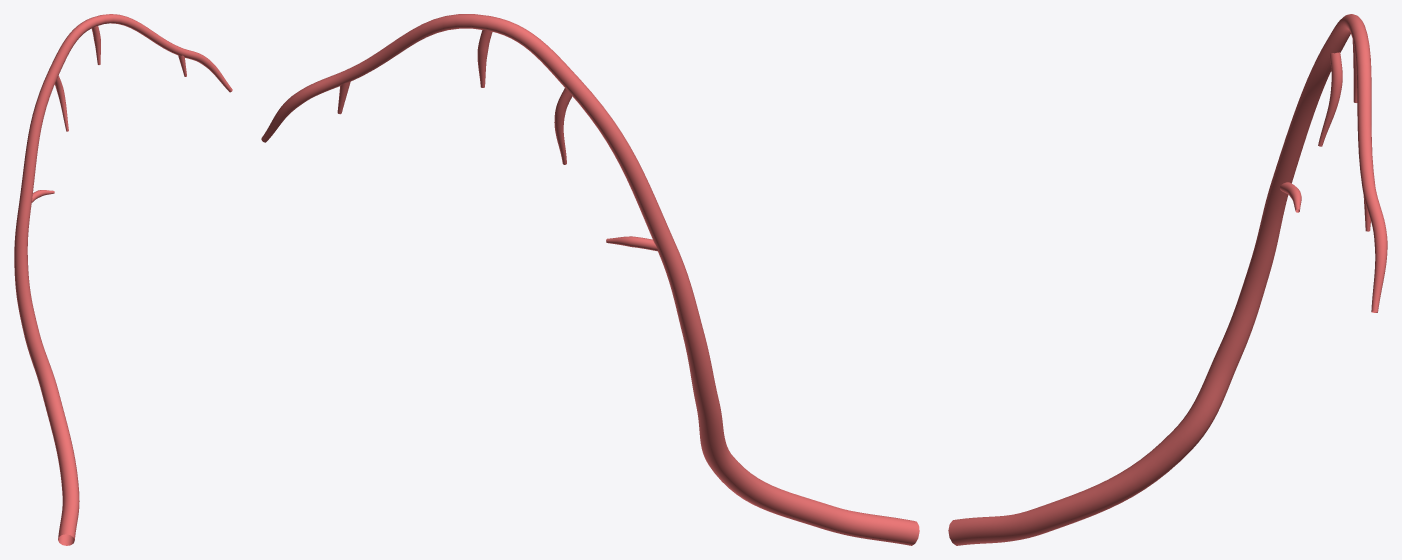
File: Inferior_suprarenal_arteries.l_BezierCurve.389.glb
3 renders of one model, left to right at view 1: azimuth 30°, elevation 25°; view 2: azimuth 150°, elevation 25°; view 3: azimuth 270°, elevation 25°, orthographic. The views are drawn at different scales.
Visible parts, largest first — view 1: Inferior_suprarenal_arteries.l_BezierCurve.389; view 2: Inferior_suprarenal_arteries.l_BezierCurve.389; view 3: Inferior_suprarenal_arteries.l_BezierCurve.389.
Boxes of the visible parts, box(x1,y1,x2,y2) form: Inferior_suprarenal_arteries.l_BezierCurve.389: box(14, 14, 232, 545); Inferior_suprarenal_arteries.l_BezierCurve.389: box(261, 14, 919, 545); Inferior_suprarenal_arteries.l_BezierCurve.389: box(948, 14, 1387, 545).
Size of the model in its own units: 0.0497 by 0.0629 by 0.039.
